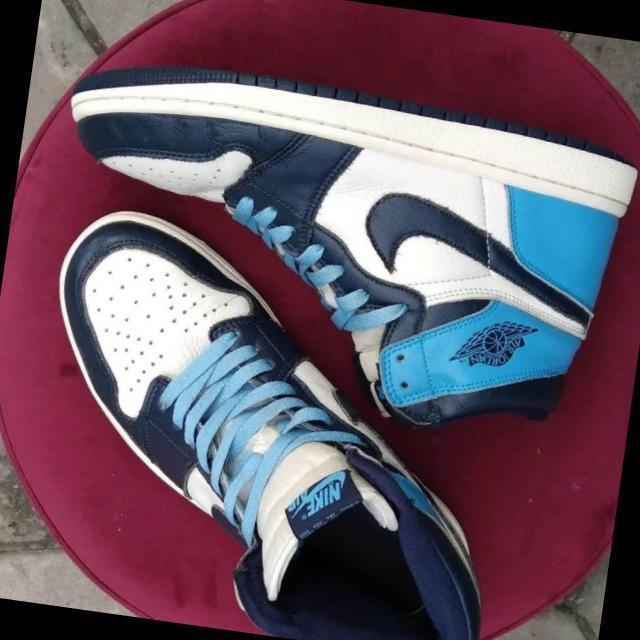nike fake jordan 1: (30, 46, 640, 455), (7, 199, 534, 640)
